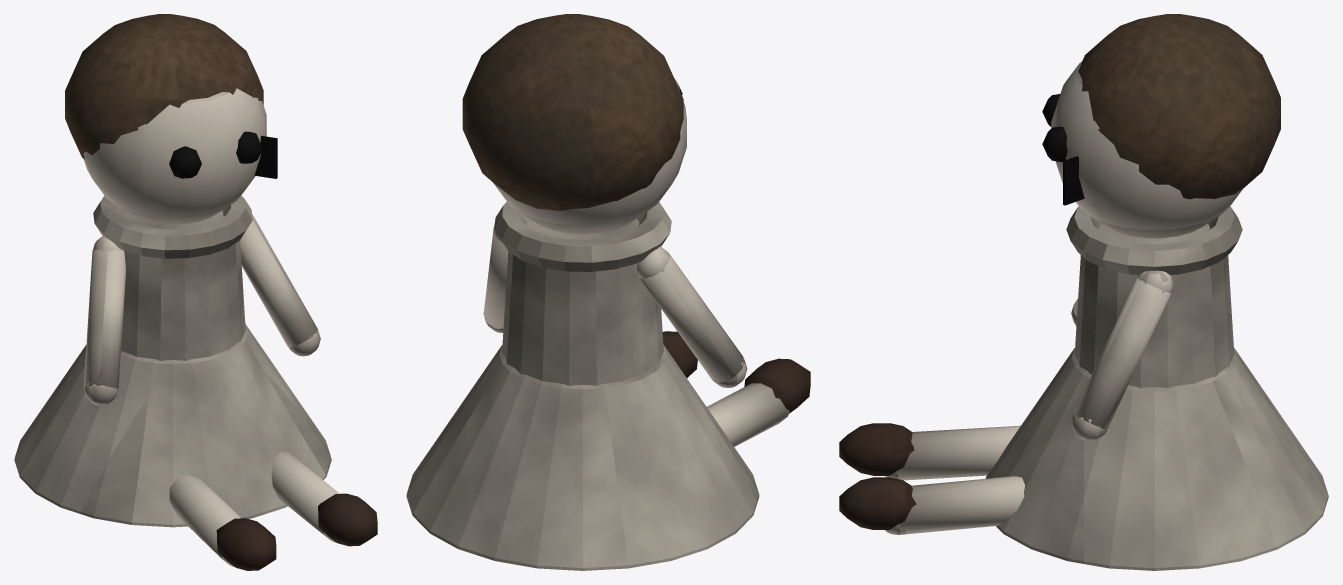
Rendered from T02_porcelain_doll_sitting_v1.glb.
The picture shows the model from 3 angles, left to right: view 1: azimuth 30°, elevation 25°; view 2: azimuth 150°, elevation 25°; view 3: azimuth 270°, elevation 25°; orthographic projection. The views are drawn at different scales.
Visible parts, largest first — view 1: T02_porcelain_doll_sitting_v1; view 2: T02_porcelain_doll_sitting_v1; view 3: T02_porcelain_doll_sitting_v1.
Boxes of the visible parts, left/top/right/bottom form: T02_porcelain_doll_sitting_v1: left=14, top=14, right=377, bottom=570; T02_porcelain_doll_sitting_v1: left=406, top=14, right=810, bottom=570; T02_porcelain_doll_sitting_v1: left=839, top=14, right=1328, bottom=570.
Bounding box in the file's own units: 0.2625 × 0.4 × 0.3687.
Materials: 5 (5 with a texture image).
